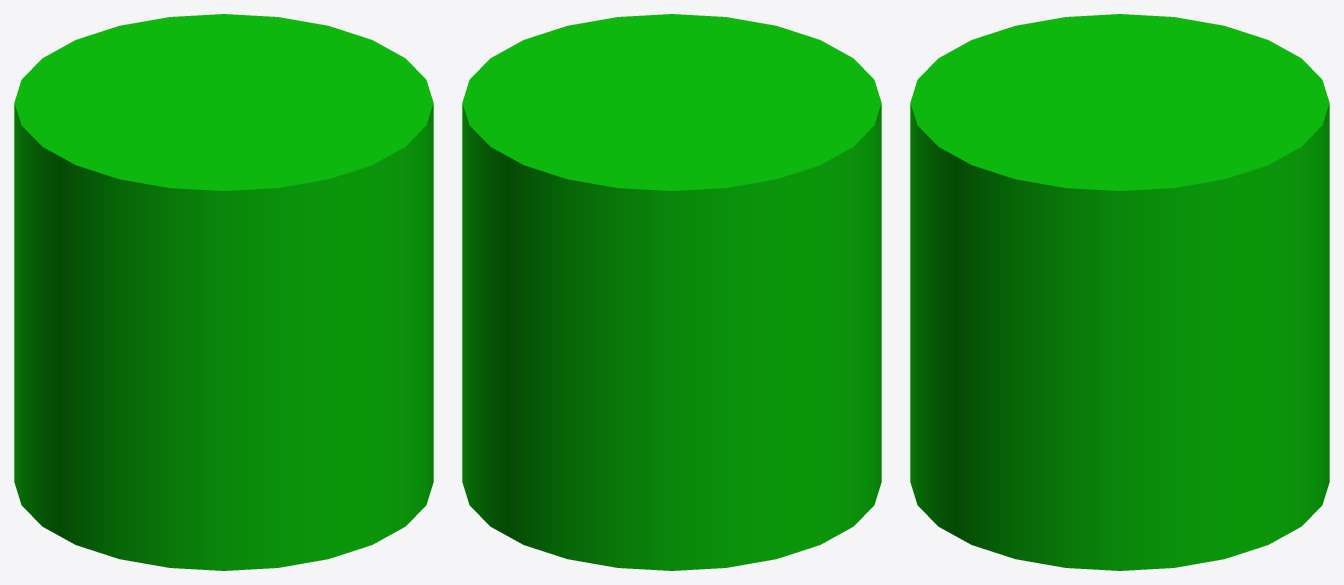
3 views of the same model, side by side, from view 1: azimuth 30°, elevation 25°; view 2: azimuth 150°, elevation 25°; view 3: azimuth 270°, elevation 25° (orthographic).
Visible parts, largest first — view 1: SketchUp; view 2: SketchUp; view 3: SketchUp.
Boxes of the visible parts, x1,y1,x2,y2 form: SketchUp: (14,14,433,570); SketchUp: (462,14,881,570); SketchUp: (910,14,1329,570).
Bounding box in the file's own units: 3.94 × 3.94 × 3.94.
